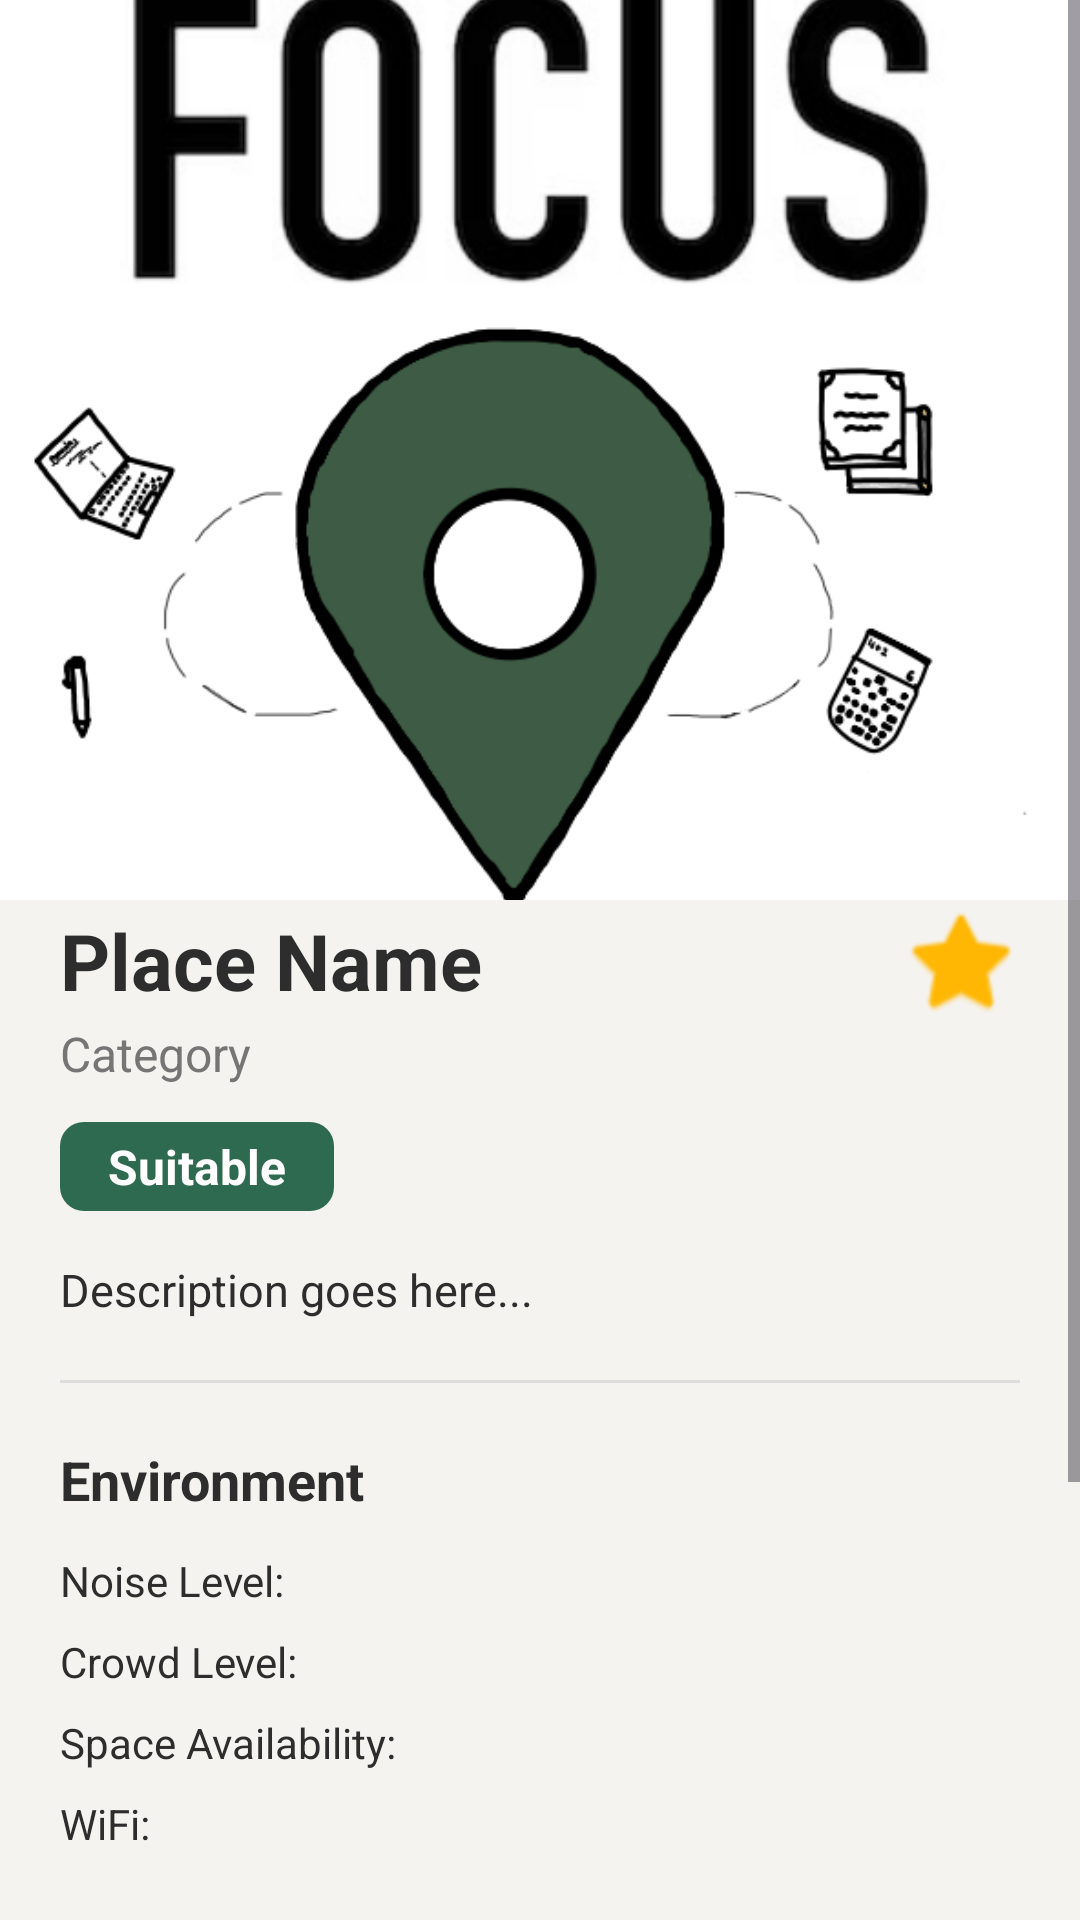

Where icons sit on this 1080×1920 app screen, as box(x1, y1, x2, y2):
Favorite button: box(911, 913, 1011, 1011)
